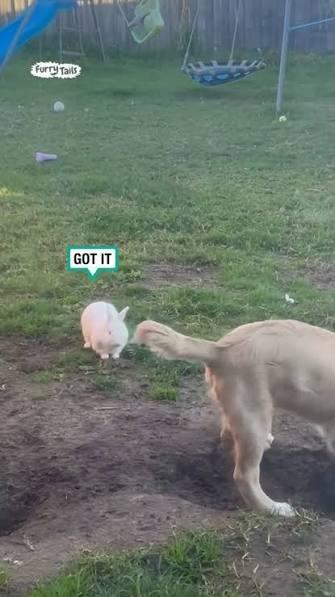adult_dog: (134, 318, 335, 520)
non-dog: (79, 301, 130, 360)
